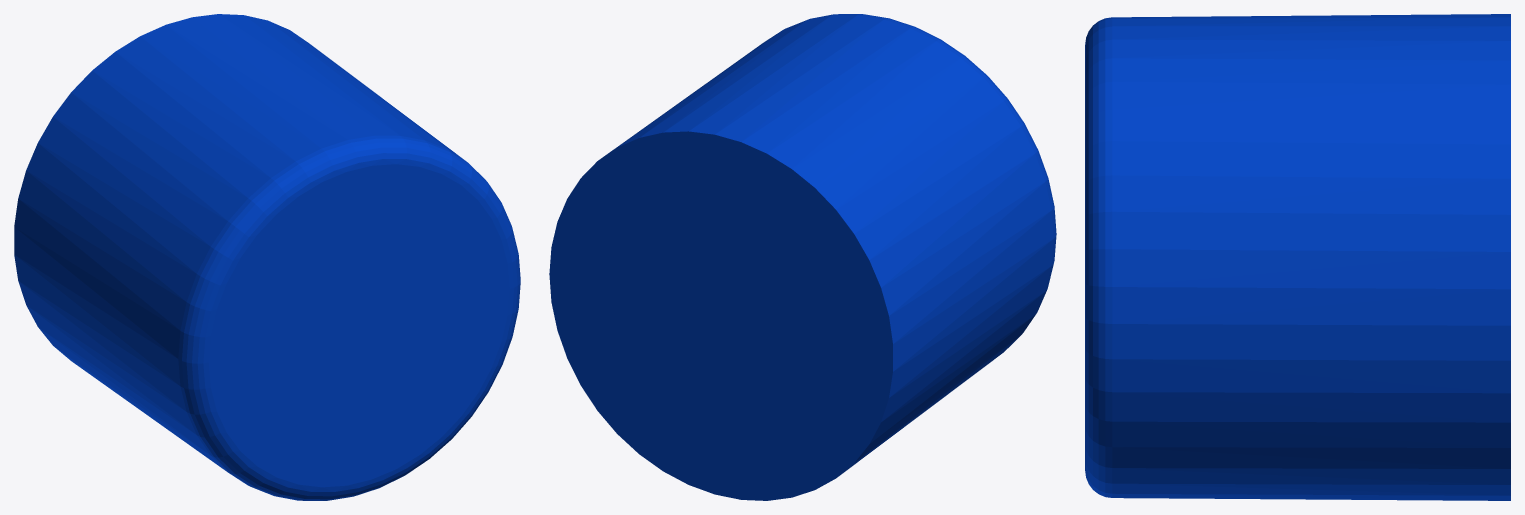
The model's file is cap.obj.
3 views of the same model, side by side, from view 1: azimuth 30°, elevation 25°; view 2: azimuth 150°, elevation 25°; view 3: azimuth 270°, elevation 25° (orthographic). The views are drawn at different scales.
Parts seen in each view (by area): view 1: 15mL_c_tube_cap; view 2: 15mL_c_tube_cap; view 3: 15mL_c_tube_cap.
Boxes of the visible parts, left/top/right/bottom form: 15mL_c_tube_cap: left=14, top=14, right=520, bottom=500; 15mL_c_tube_cap: left=549, top=14, right=1056, bottom=500; 15mL_c_tube_cap: left=1085, top=14, right=1510, bottom=500.
Size of the model in its own units: 0.0177 by 0.0177 by 0.0155.
